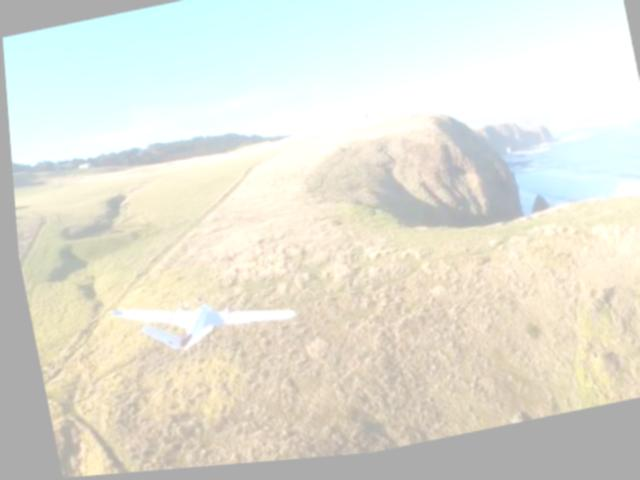uav: (102, 279, 294, 369)
